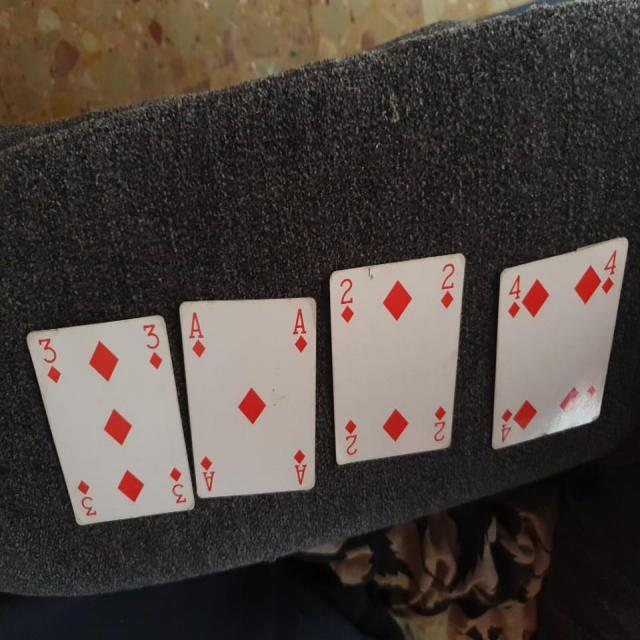2 Diamonds: (330, 256, 463, 457)
3 Diamonds: (26, 308, 199, 530)
4 Diamonds: (489, 237, 632, 455)
A Diamonds: (172, 288, 321, 495)
